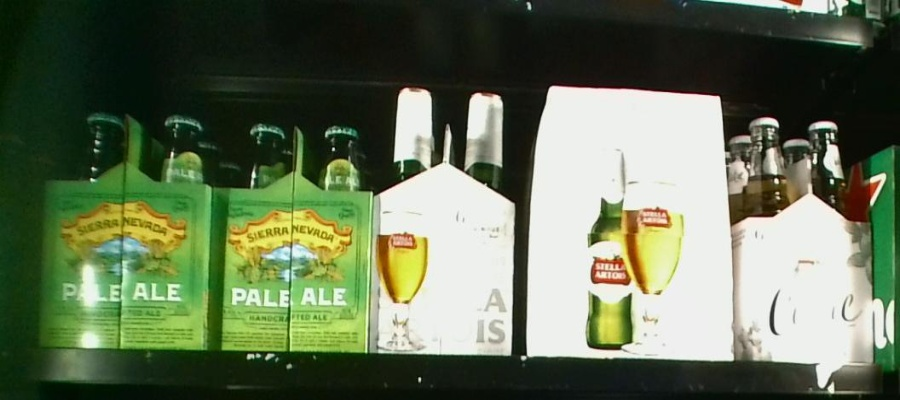bottle: (523, 86, 734, 359), (43, 107, 210, 353), (373, 82, 516, 353), (216, 121, 370, 349), (744, 112, 872, 360)
